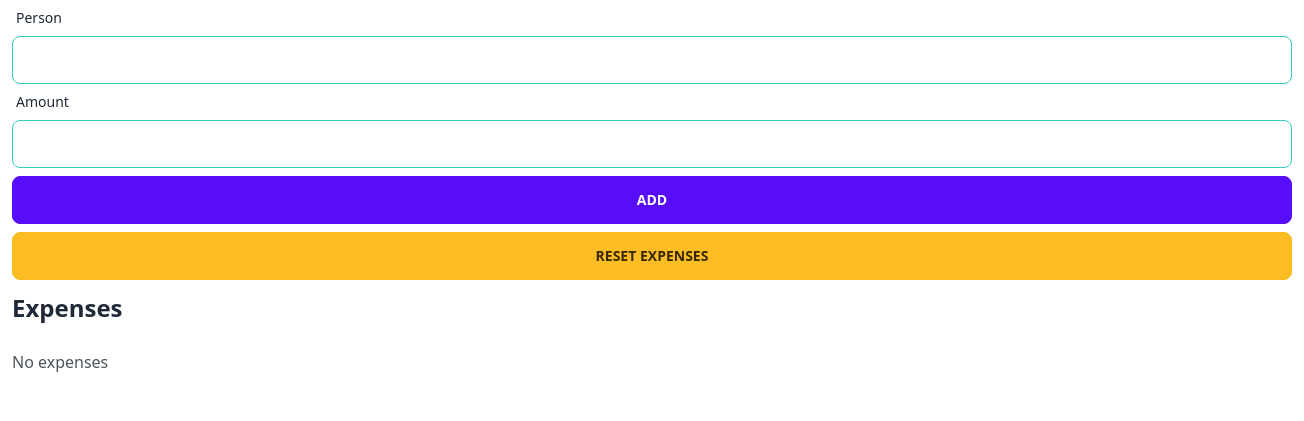
Test: Expense Container › Should not add expense if amount is empty
Type "John" into the field labelled "Person" at (652, 60), box [12,36,1292,84]
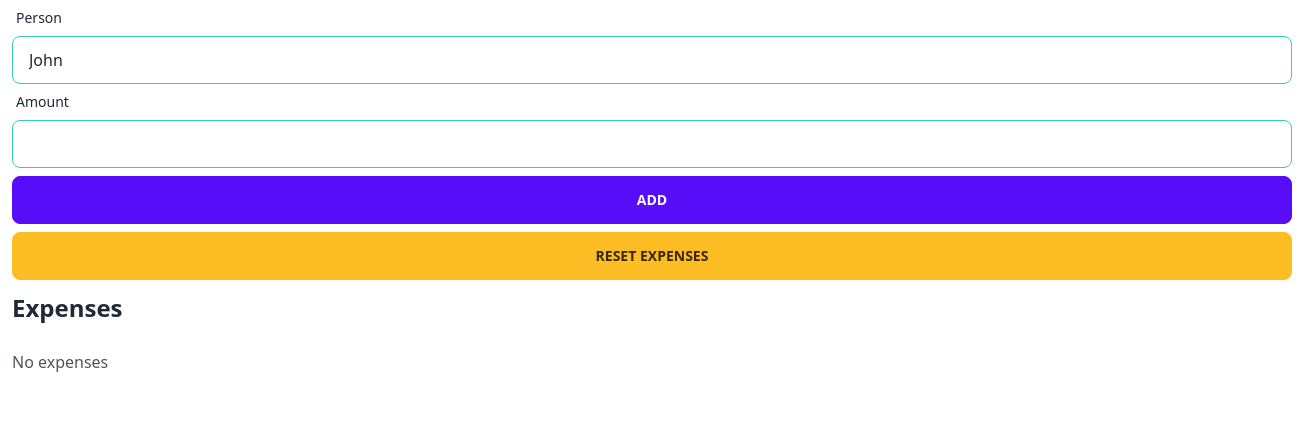
Click the button "Add" at (652, 200), box [12,176,1292,224]
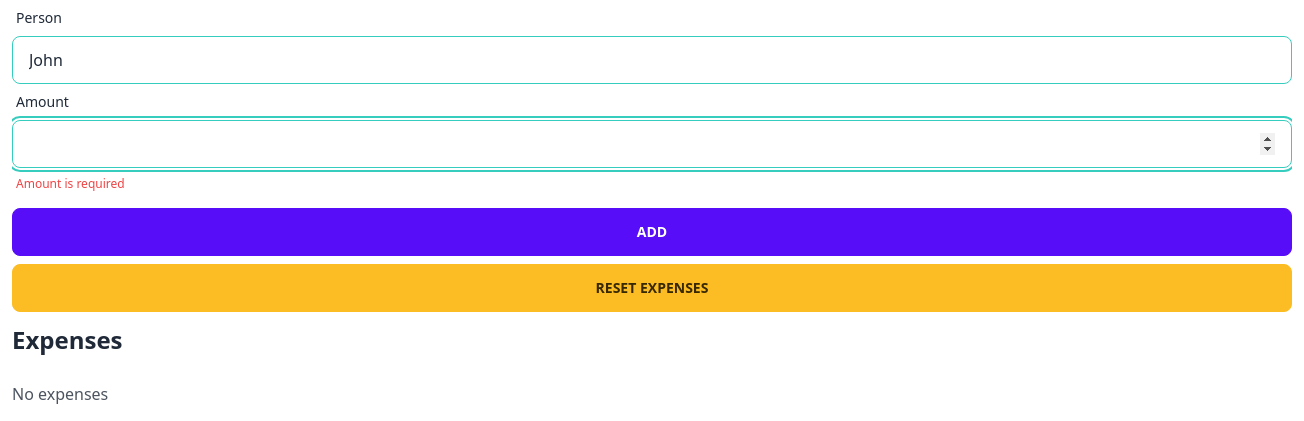
expect the text "Amount is required" is shown: met, box [16,176,125,192]
